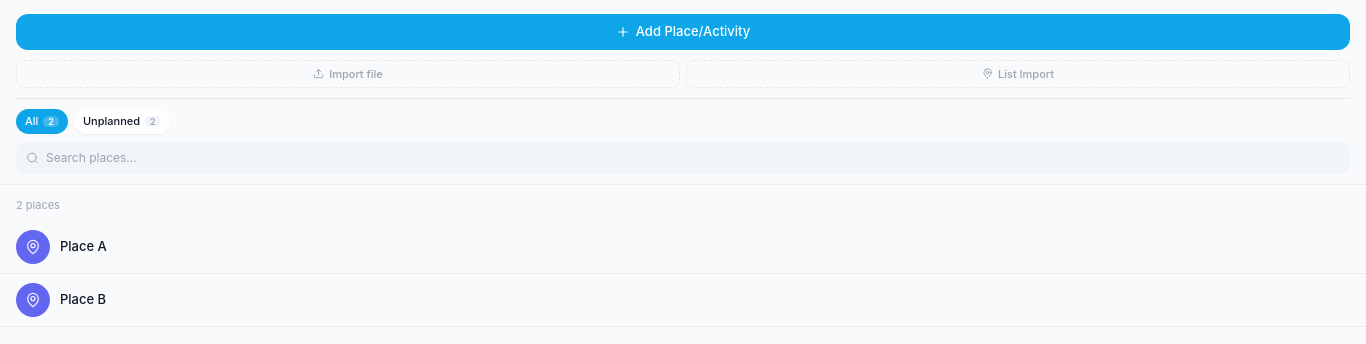
Test: PlacesSidebar › FE-COMP-PLACES-013: clearing search shows all places again
The image size is (1366, 344).
Type "Place A" into the field with placeholder "Search places...".
click(683, 158); type("Place A")  # box [16,142,1350,174]
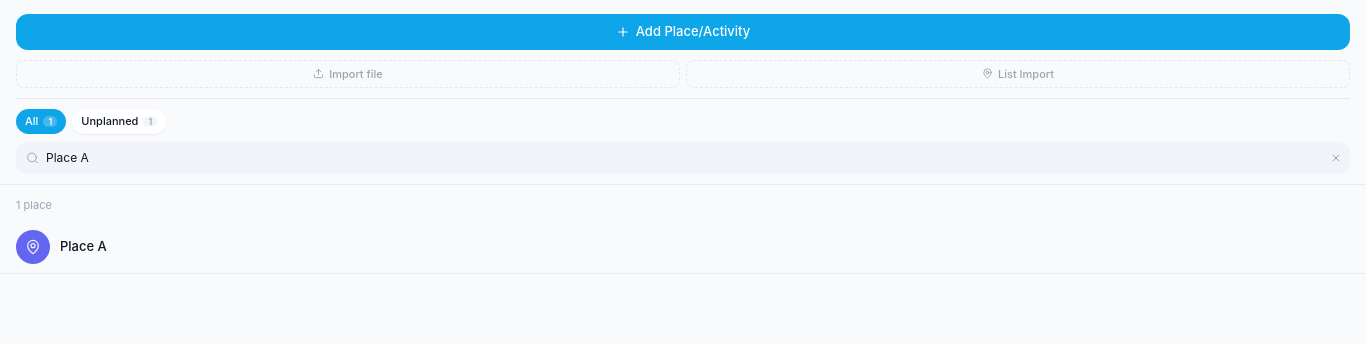
Now the text "Place B" is gone
Clear the field with placeholder "Search places..." at coordinates (683, 158), box [16,142,1350,174]
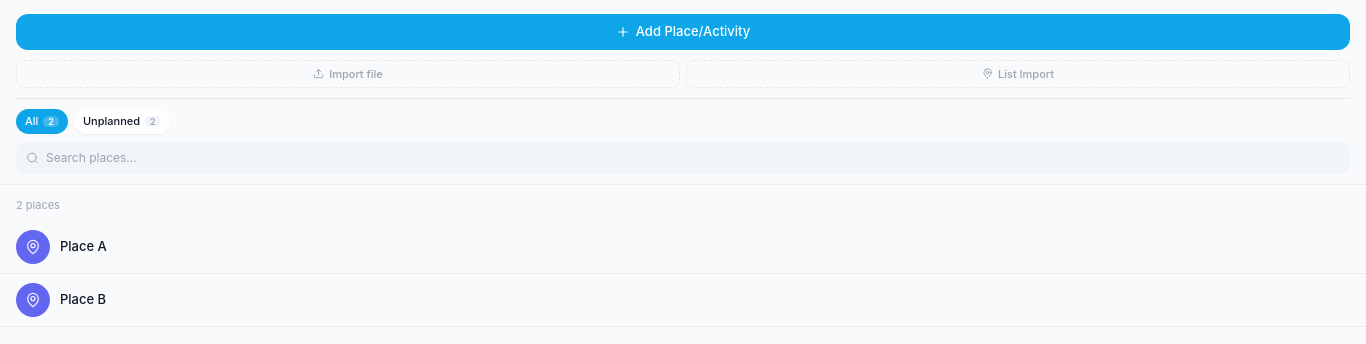
Now the text "Place B" is shown, box [60,292,106,307]
